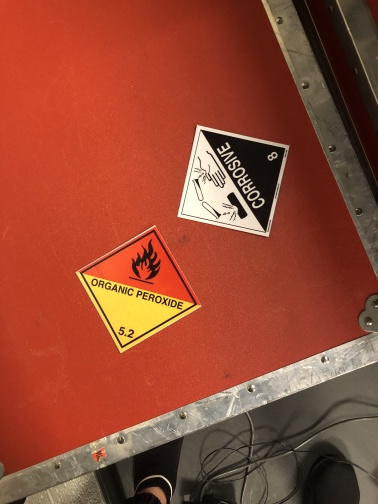Corrosive: (176, 124, 289, 238)
OrganicPeroxide: (75, 224, 203, 352)
